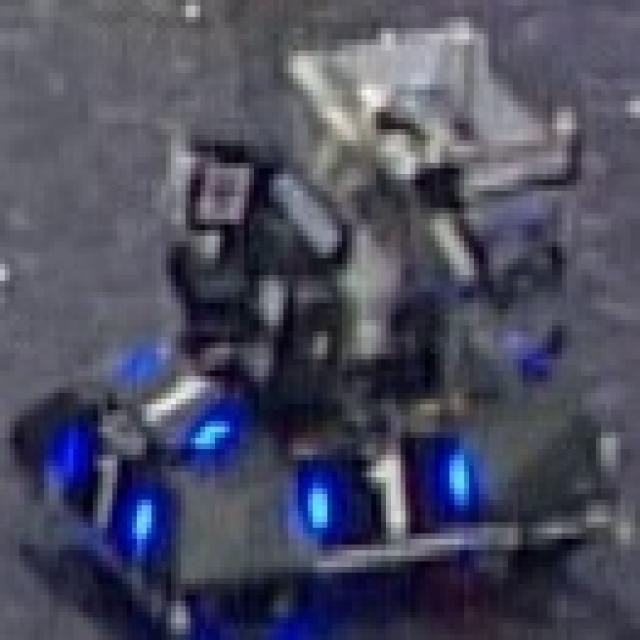B1: (290, 412, 472, 542), (100, 334, 237, 463), (44, 421, 156, 556)
